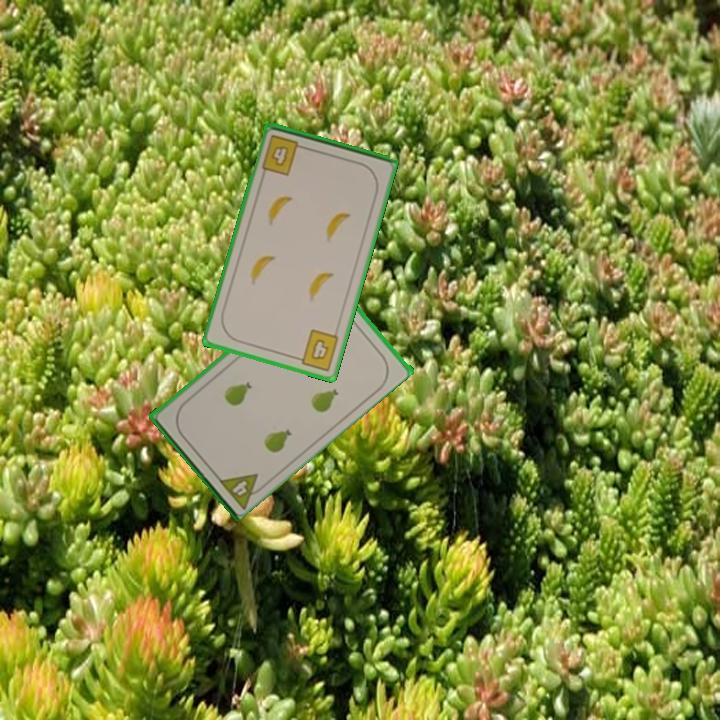4b: (291, 326, 342, 374), (258, 131, 309, 178)
4p: (214, 469, 270, 511)
